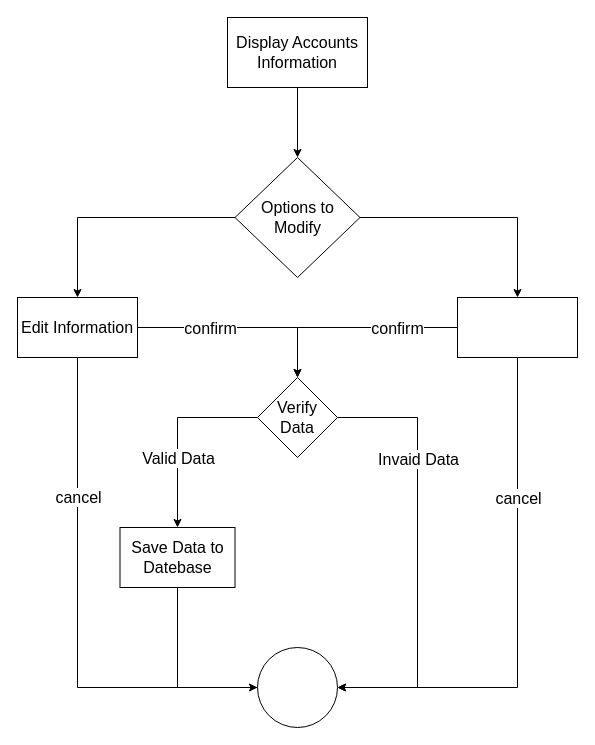
Image size: 595x745. Some labels were removed from this diagram. The shapes that lost their labels are listed below. From the top down, each one's centre as x and y in pixels, then its label:
the point at 517,327: Delete Infornation
the point at 297,687: End
